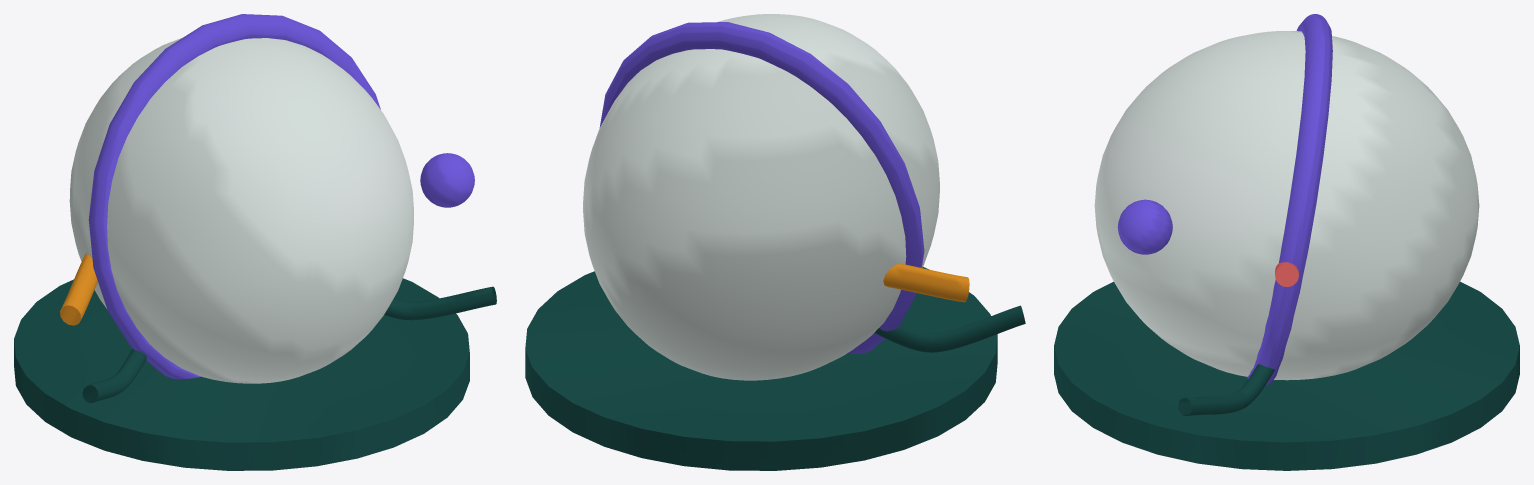
The model's file is 0417_微生物图鉴_红面包霉菌.glb.
3 renders of one model, left to right at view 1: azimuth 30°, elevation 25°; view 2: azimuth 150°, elevation 25°; view 3: azimuth 270°, elevation 25°, orthographic. The views are drawn at different scales.
Parts seen in each view (by area): view 1: card_0417; view 2: card_0417; view 3: card_0417.
Part boxes in pixels (bbox=[...]): card_0417: bbox=[14, 14, 496, 470]; card_0417: bbox=[525, 14, 1025, 470]; card_0417: bbox=[1054, 14, 1519, 470].
Bounding box in the file's own units: 1.26 × 1 × 1.22.
